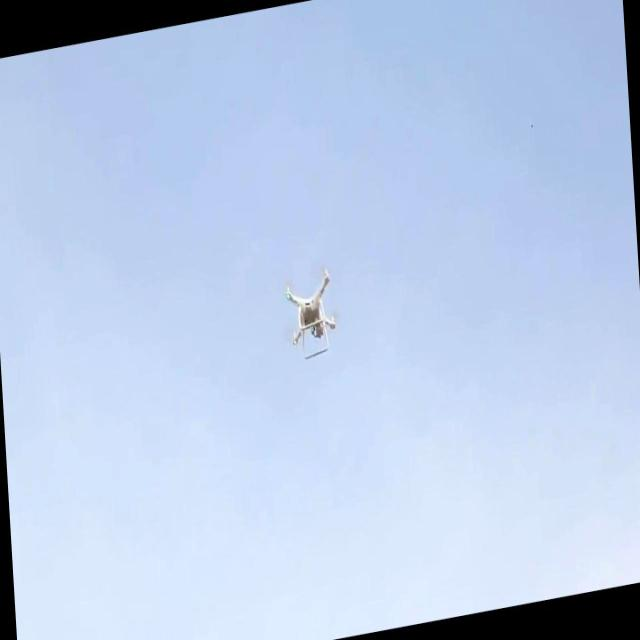drone: (282, 262, 344, 363)
